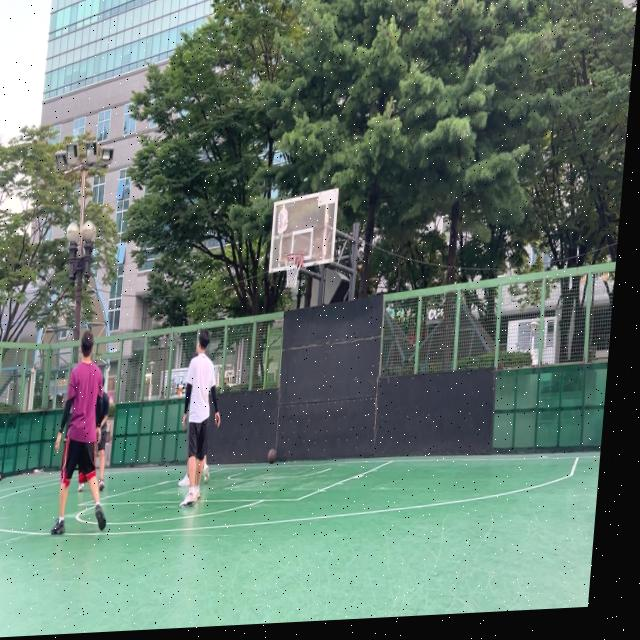basketball: (267, 447, 277, 465)
hoop: (281, 251, 304, 289)
